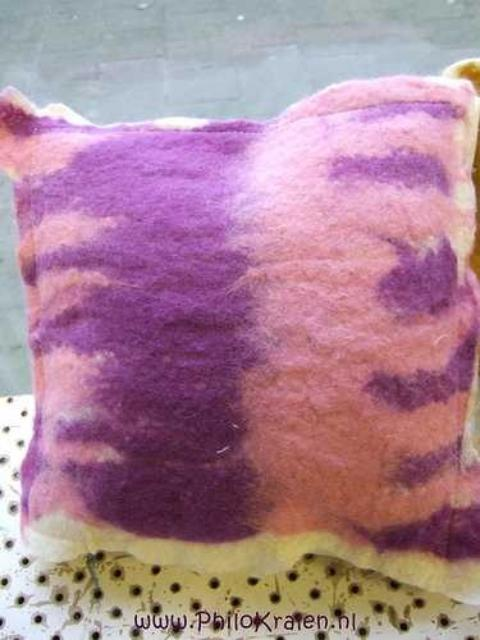pillow: (0, 66, 478, 598)
